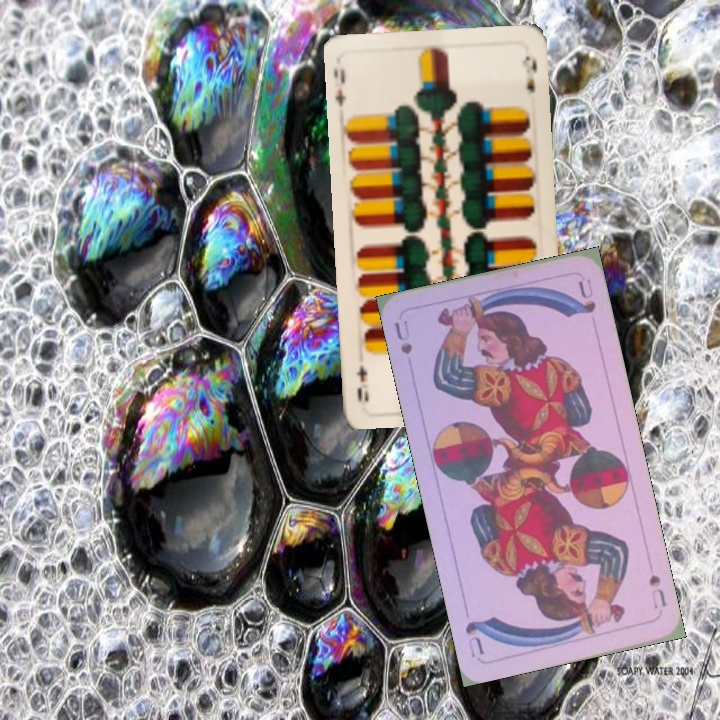E9: (329, 62, 348, 109)
SU: (390, 316, 415, 357), (645, 570, 669, 612)
